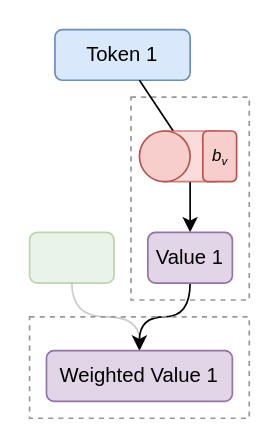
The diagram is 279 pixels wide and 448 high, and some of its shapes have lost their labels. Each missing label, with the centre of its shape:
W v: (164,155)
Weight 1: (71,257)
